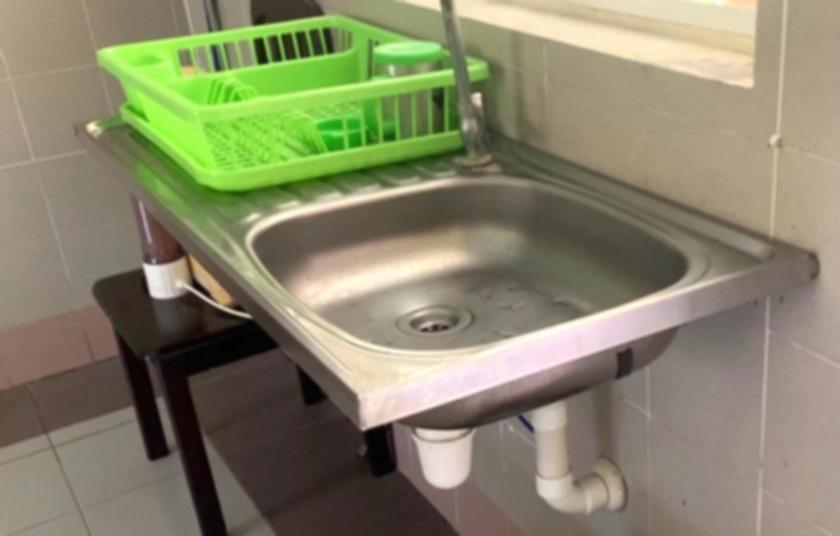Lavaplatos: (181, 27, 814, 460)
